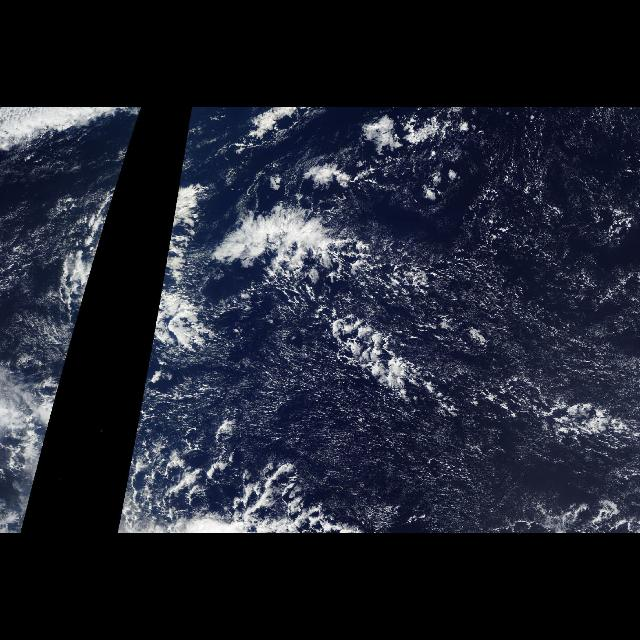Fish: (204, 185, 463, 419)
Sugar: (224, 109, 640, 533)
